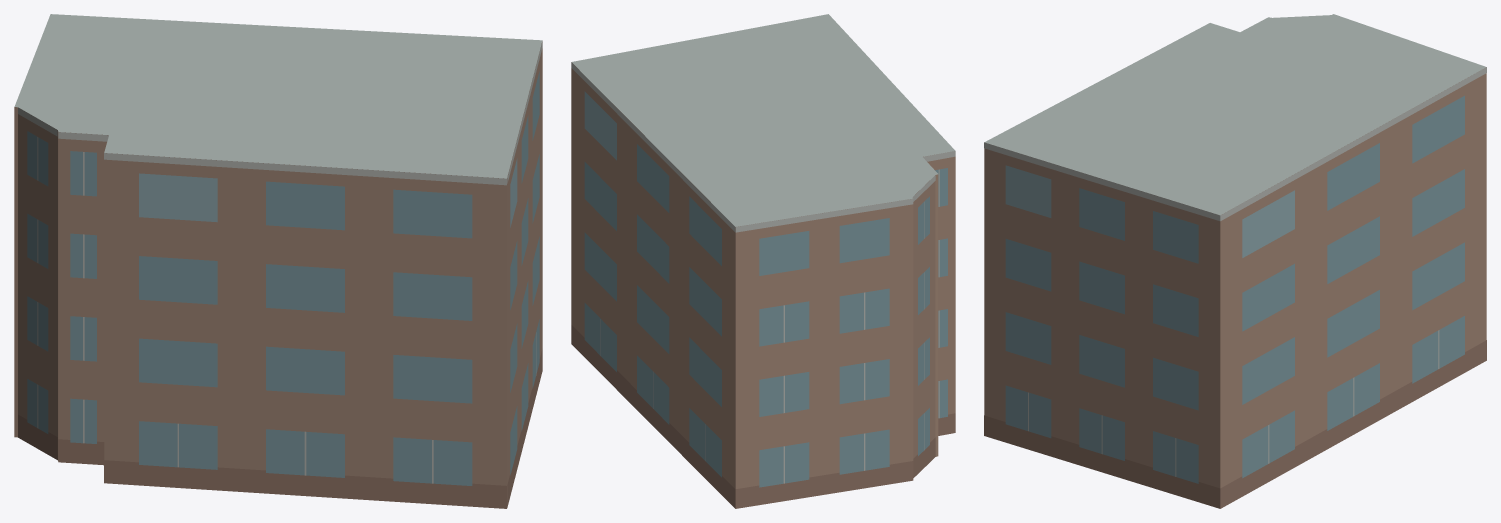
The model's file is survey-upis-33028808.glb.
3 renders of one model, left to right at view 1: azimuth 30°, elevation 25°; view 2: azimuth 150°, elevation 25°; view 3: azimuth 270°, elevation 25°, orthographic. The views are drawn at different scales.
Parts seen in each view (by area): view 1: survey-upis-33028808.tmp; view 2: survey-upis-33028808.tmp; view 3: survey-upis-33028808.tmp.
Part boxes in pixels (box(x1,y1,x2,y2)): survey-upis-33028808.tmp: box(14, 14, 542, 508); survey-upis-33028808.tmp: box(571, 14, 955, 508); survey-upis-33028808.tmp: box(984, 14, 1486, 508).
Size of the model in its own units: 17.67 by 12 by 18.63.
